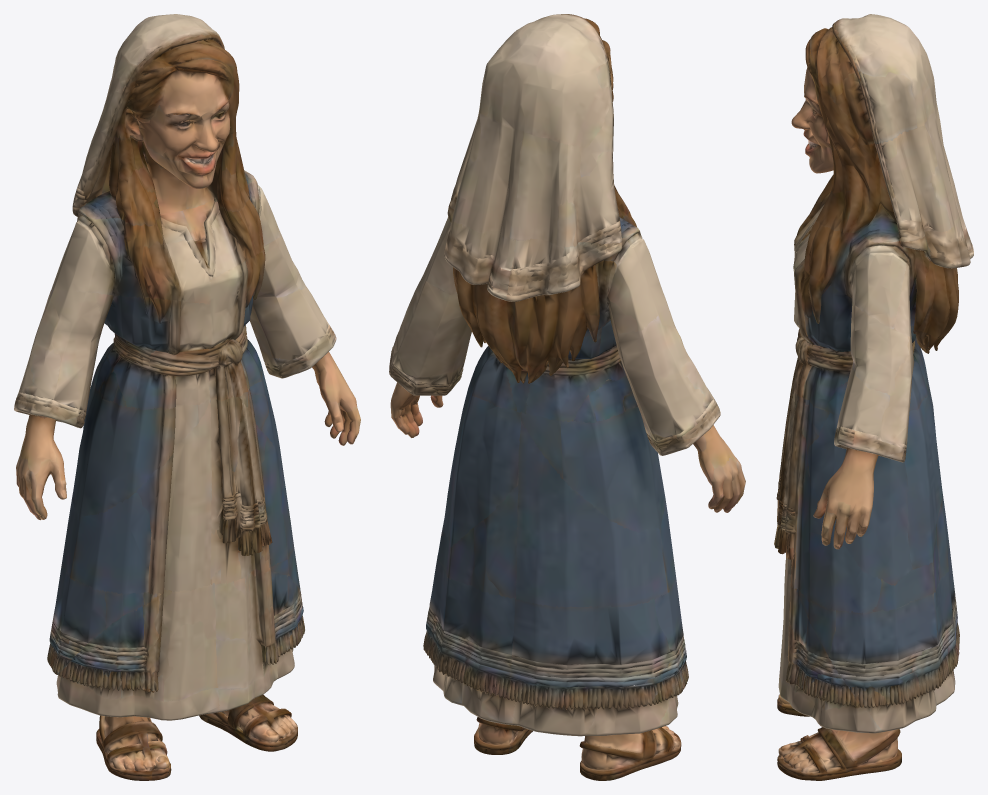
Rendered from city_girl2_game.glb.
3 renders of one model, left to right at view 1: azimuth 30°, elevation 25°; view 2: azimuth 150°, elevation 25°; view 3: azimuth 270°, elevation 25°, orthographic. The views are drawn at different scales.
Parts seen in each view (by area): view 1: tripo_node_dfbe6b0e-cc9d-4e9e-8cb6-ef113307ca76; view 2: tripo_node_dfbe6b0e-cc9d-4e9e-8cb6-ef113307ca76; view 3: tripo_node_dfbe6b0e-cc9d-4e9e-8cb6-ef113307ca76.
Boxes of the visible parts, <box> form: tripo_node_dfbe6b0e-cc9d-4e9e-8cb6-ef113307ca76: <box>14,14,360,780</box>; tripo_node_dfbe6b0e-cc9d-4e9e-8cb6-ef113307ca76: <box>389,14,745,780</box>; tripo_node_dfbe6b0e-cc9d-4e9e-8cb6-ef113307ca76: <box>774,14,973,780</box>.
Size of the model in its own units: 0.4755 by 0.9791 by 0.2478.
1 material, 1 textured.
